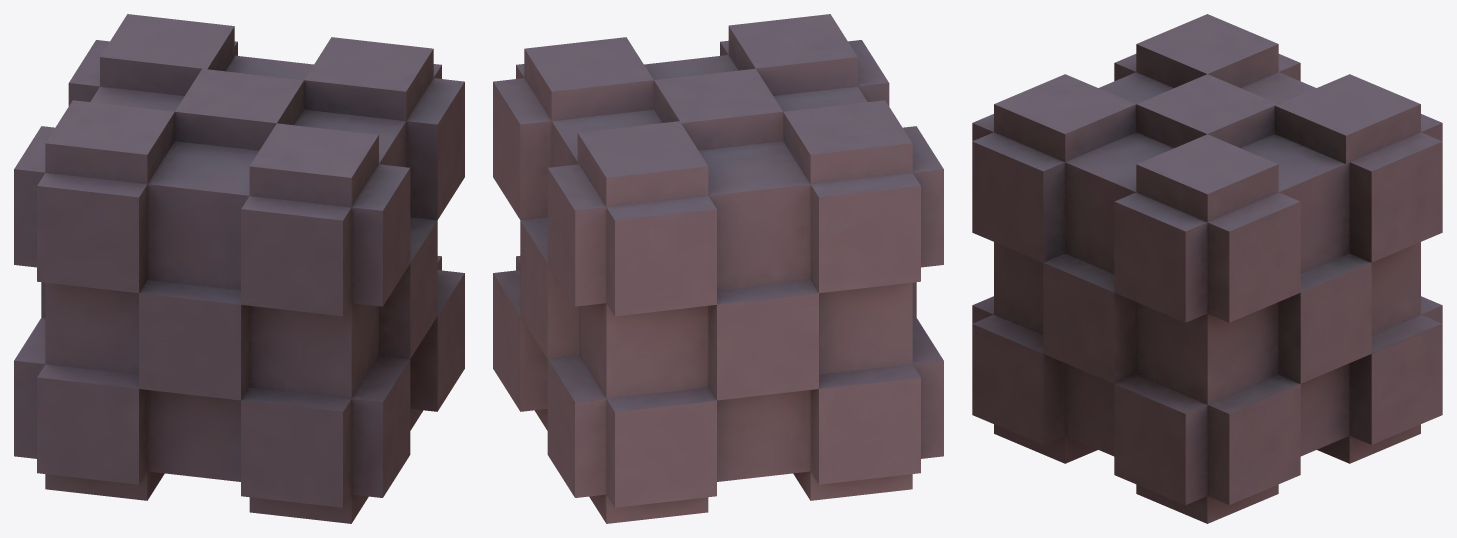
File: sculpture.glb
The picture shows the model from 3 angles, left to right: view 1: azimuth 30°, elevation 25°; view 2: azimuth 150°, elevation 25°; view 3: azimuth 270°, elevation 25°; orthographic projection. The views are drawn at different scales.
Parts seen in each view (by area): view 1: model; view 2: model; view 3: model.
Part boxes in pixels (x1,y1,x2,y2): model: [14, 14, 464, 523]; model: [493, 14, 943, 523]; model: [972, 14, 1442, 523].
Size of the model in its own units: 5.13 by 3.97 by 5.13.
1 material, 1 textured.
